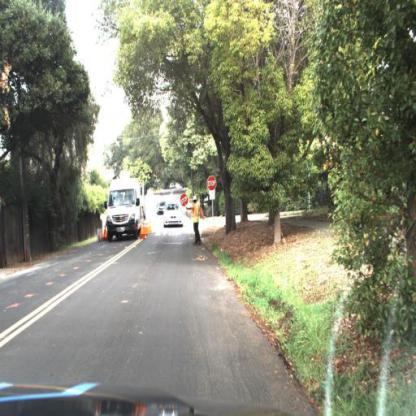car: (107, 171, 147, 240), (163, 202, 185, 229), (155, 198, 168, 218), (168, 180, 178, 194)
pedestrian: (181, 190, 206, 247)
